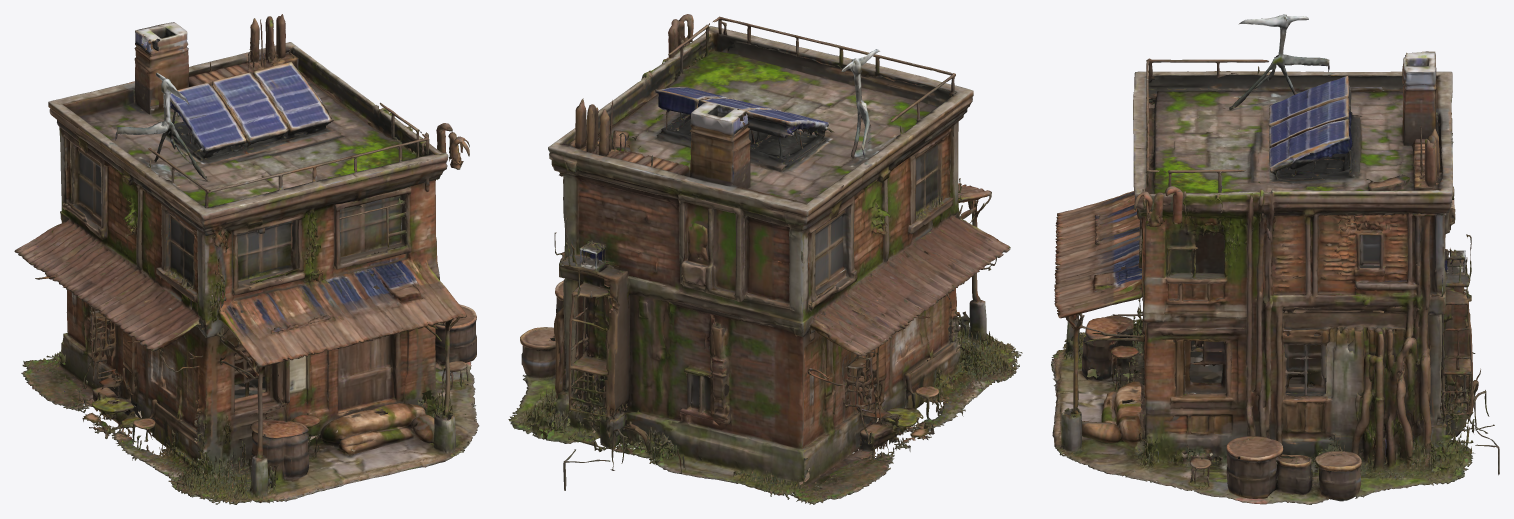
Rendered from Tavern.glb.
3 views of the same model, side by side, from view 1: azimuth 30°, elevation 25°; view 2: azimuth 150°, elevation 25°; view 3: azimuth 270°, elevation 25° (orthographic). The views are drawn at different scales.
Visible parts, largest first — view 1: Mesh_0; view 2: Mesh_0; view 3: Mesh_0.
Part boxes in pixels (x1=…): Mesh_0: x1=14, y1=14, x2=479, y2=504; Mesh_0: x1=508, y1=14, x2=1022, y2=504; Mesh_0: x1=1051, y1=14, x2=1499, y2=504.
Bounding box in the file's own units: 5.32 × 5 × 5.39.
1 material, 1 textured.
